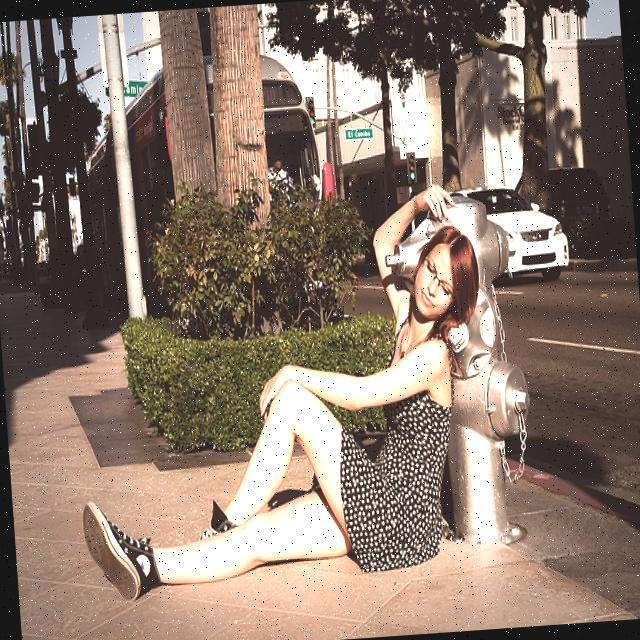fire_hydrant: (380, 176, 536, 544)
